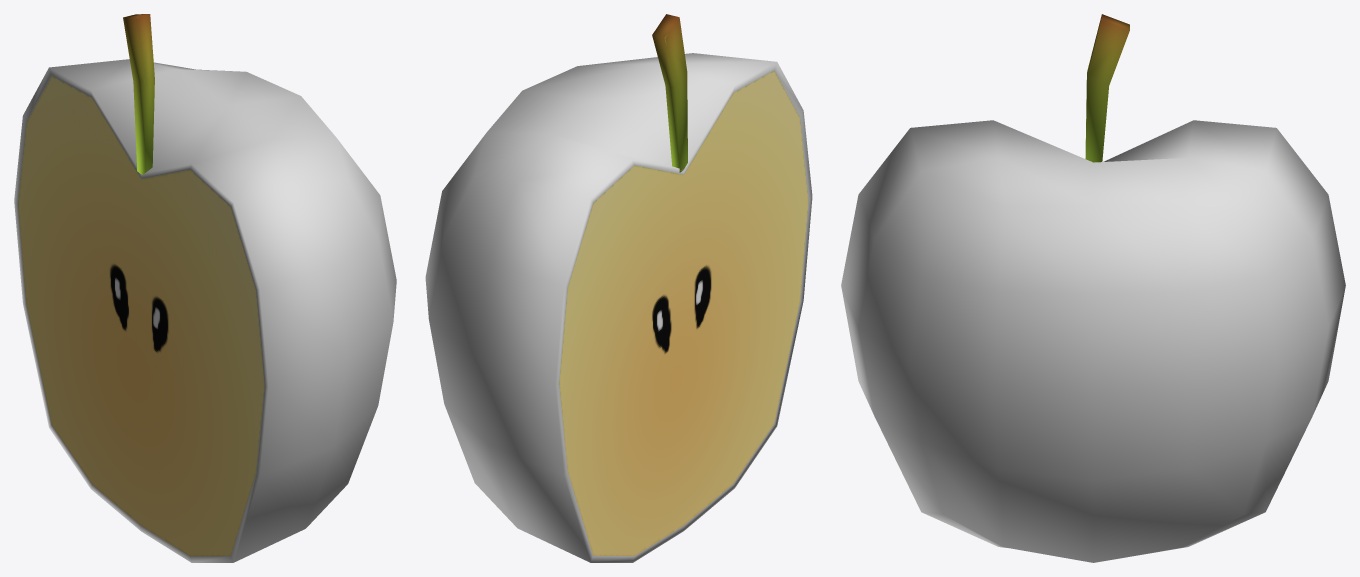
File: apple-semi.fbx
3 views of the same model, side by side, from view 1: azimuth 30°, elevation 25°; view 2: azimuth 150°, elevation 25°; view 3: azimuth 270°, elevation 25° (orthographic).
Parts seen in each view (by area): view 1: Apple-semi; view 2: Apple-semi; view 3: Apple-semi.
Part boxes in pixels (<box>): Apple-semi: <box>14,14,396,562</box>; Apple-semi: <box>425,14,812,562</box>; Apple-semi: <box>841,14,1345,562</box>.
Bounding box in the file's own units: 83.95 × 186 × 168.
2 materials, 1 textured.
